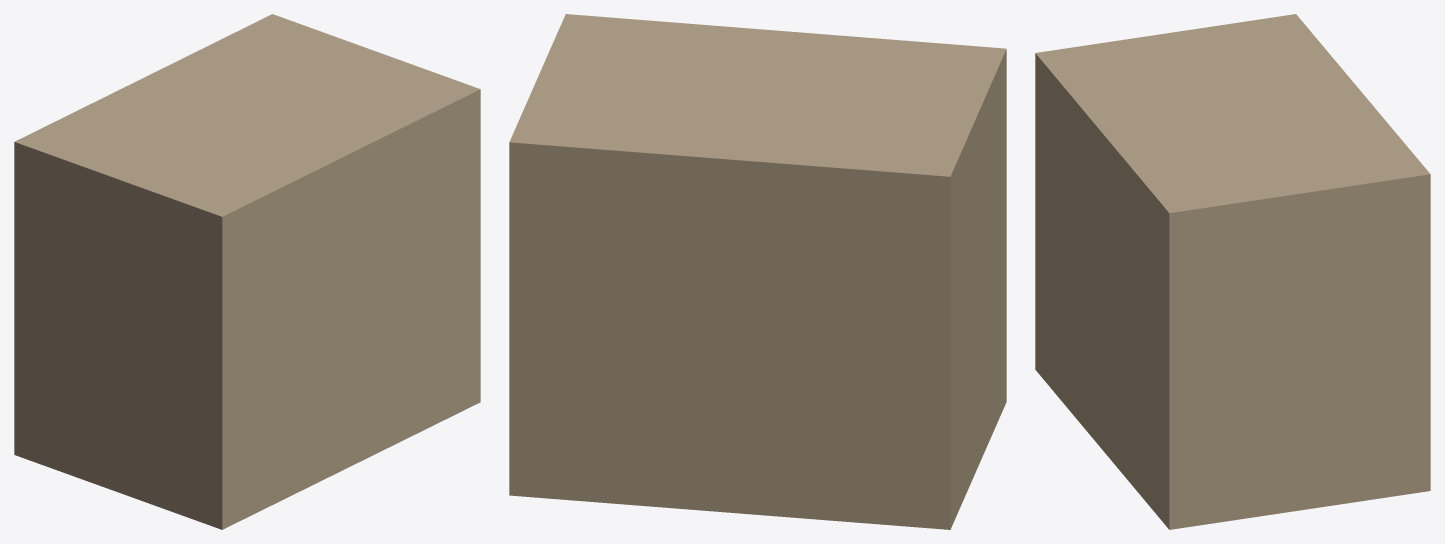
File: bld_108161965.dae
3 renders of one model, left to right at view 1: azimuth 30°, elevation 25°; view 2: azimuth 150°, elevation 25°; view 3: azimuth 270°, elevation 25°, orthographic. The views are drawn at different scales.
Visible parts, largest first — view 1: bld_108161965; view 2: bld_108161965; view 3: bld_108161965.
Boxes of the visible parts, x1,y1,x2,y2 form: bld_108161965: (14, 14, 480, 529); bld_108161965: (509, 14, 1006, 529); bld_108161965: (1035, 14, 1430, 529).
Size of the model in its own units: 10.79 by 9.05 by 8.
